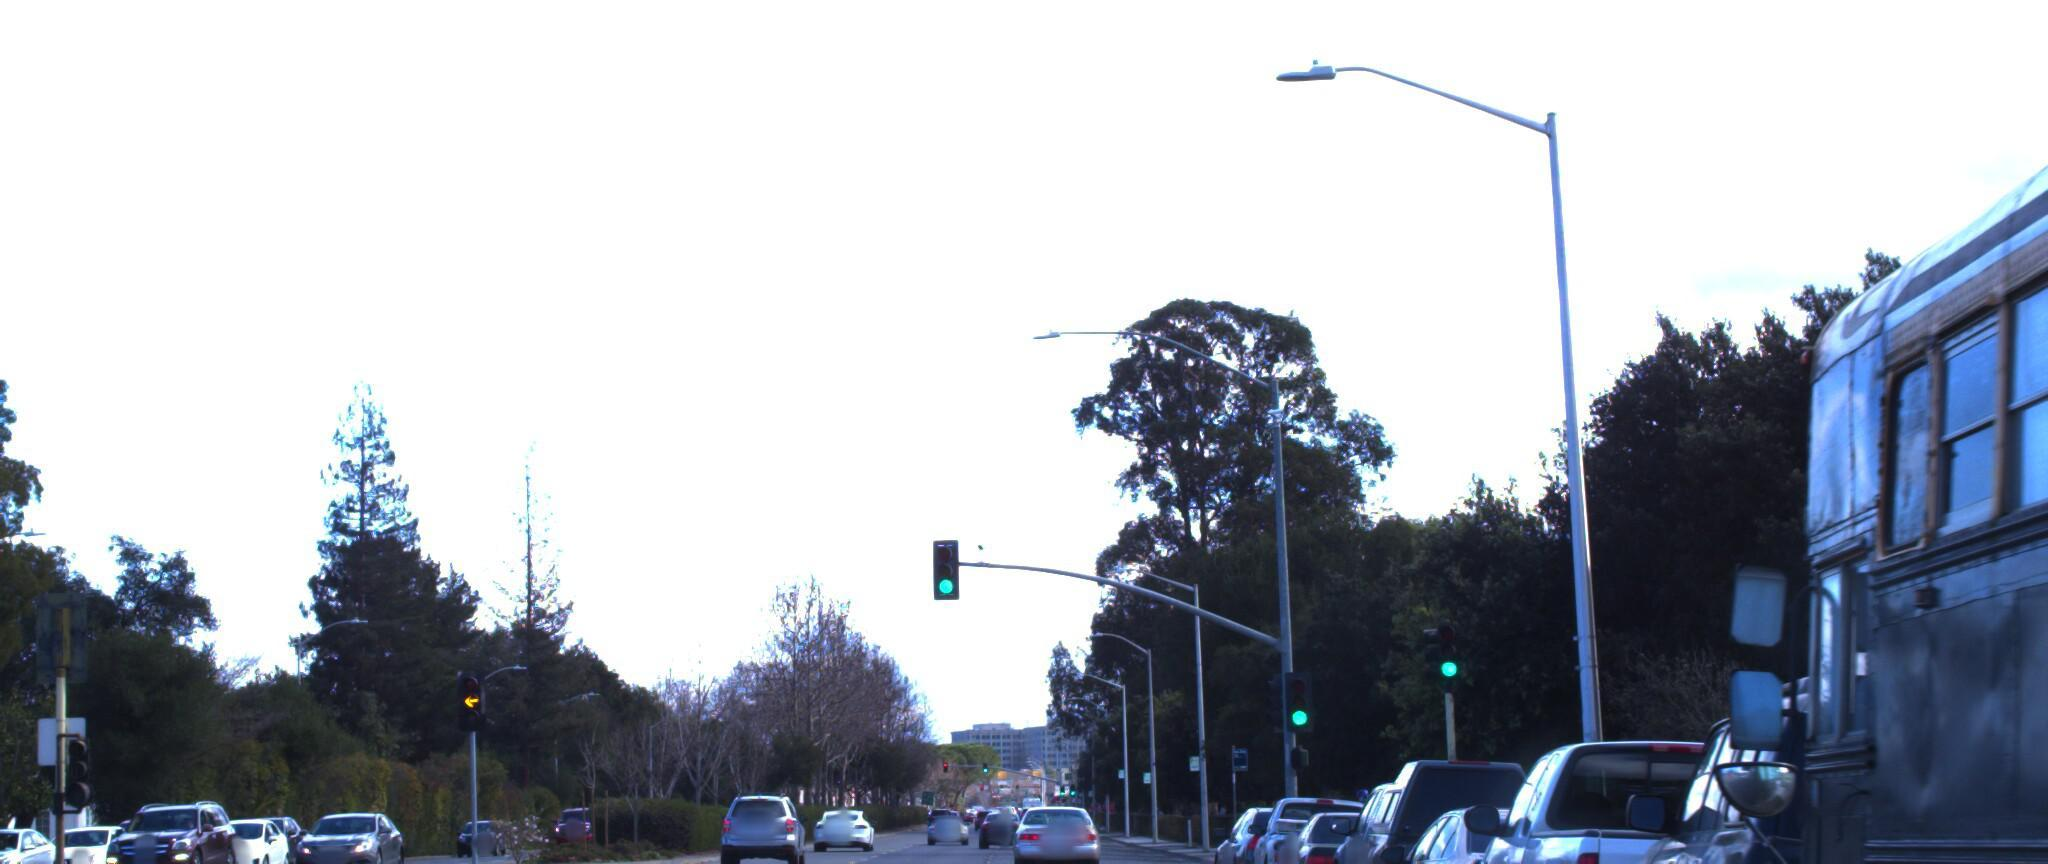bus: (1698, 0, 2048, 864)
car: (1595, 666, 2048, 864), (1438, 705, 1941, 864), (1326, 745, 1576, 864), (1369, 791, 1698, 864), (1249, 786, 1407, 864), (1273, 800, 1450, 864), (107, 788, 251, 864), (293, 790, 421, 864), (707, 779, 799, 861), (188, 801, 303, 864), (997, 794, 1087, 864)
